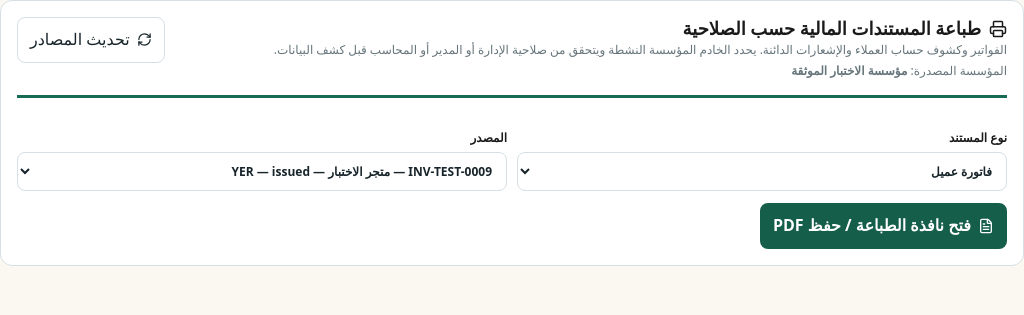
Test: finance document printing UI › prints a staff account statement with the server-computed remaining balance
Select "كشف حساب عميل" in the dropdown named "نوع المستند المالي" at (762, 172), box [517, 152, 1007, 191]
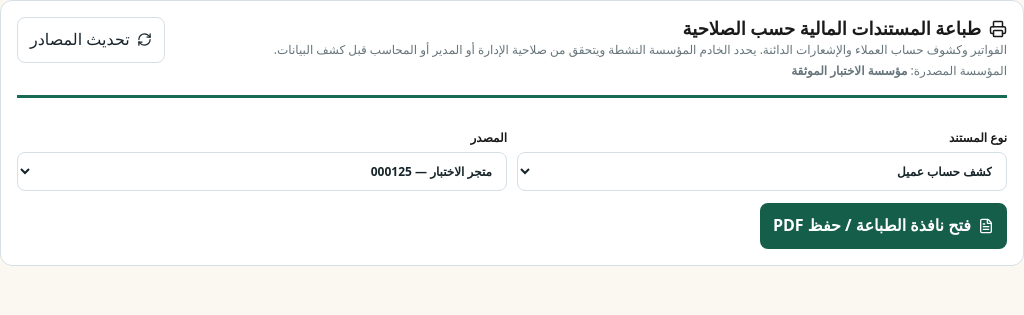
Click the button "فتح نافذة الطباعة / حفظ PDF".
click(883, 226)  # box [760, 203, 1007, 249]
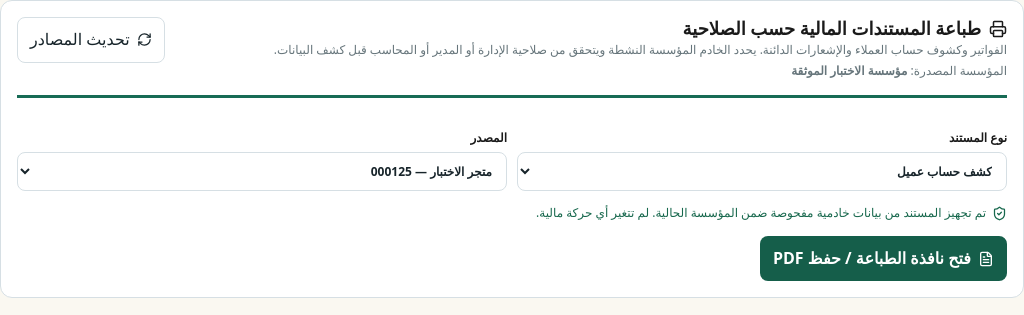
Expected: the text "تم تجهيز المستند" is shown, [536, 204, 986, 221]
